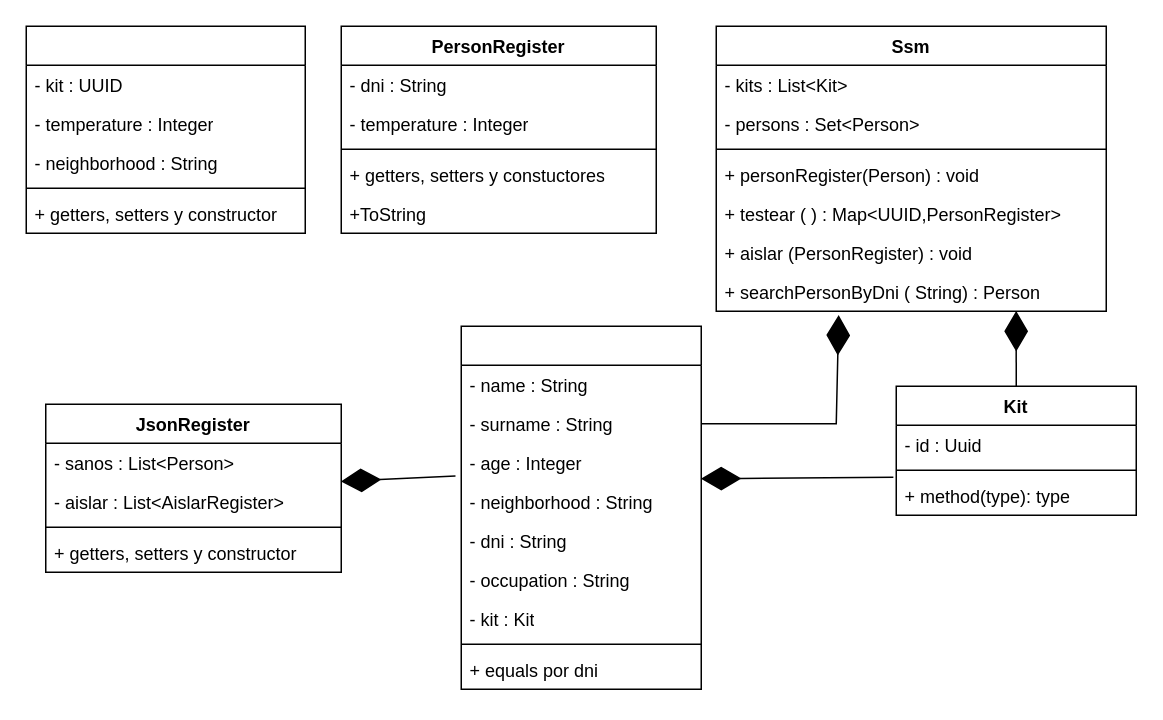
The diagram is 1163 pixels wide and 720 high, and some of its shapes have lost their labels. The shapes that lost their labels are listed below. From the top down, each one's box as (x1, y1, x2, y2) in pixels, then its label:
(25, 25, 305, 233): AislarRegister
(460, 325, 701, 689): Person
